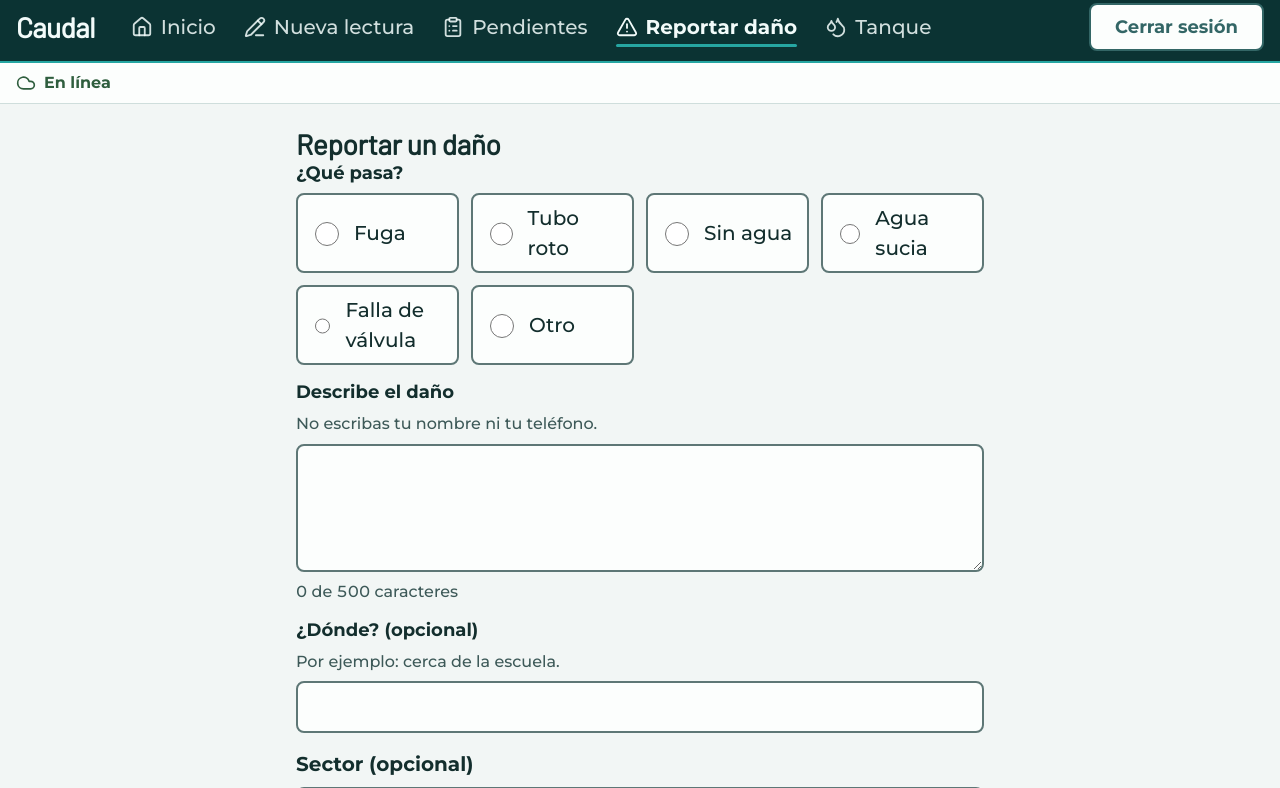
Test: OperatorDamagePage (S11) › keeps the text typed and says there is no connection when the request fails
The image size is (1280, 788).
Click the radio button labelled "Fuga" at (327, 234), box x1=315 y1=222 x2=339 y2=246
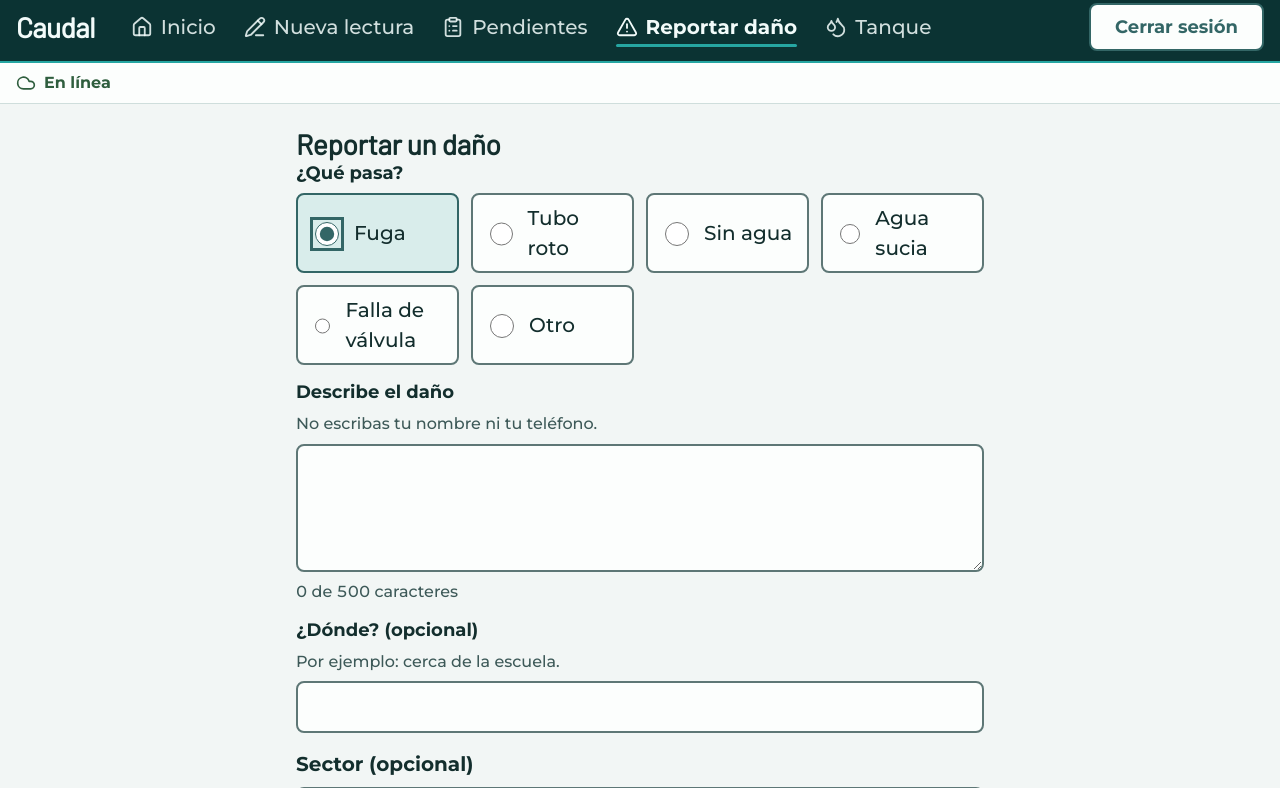
Type "Gotea el tubo junto a la escuela." into the text box labelled "Describe el daño" at (640, 508), box x1=296 y1=444 x2=984 y2=572
(page scrolled)
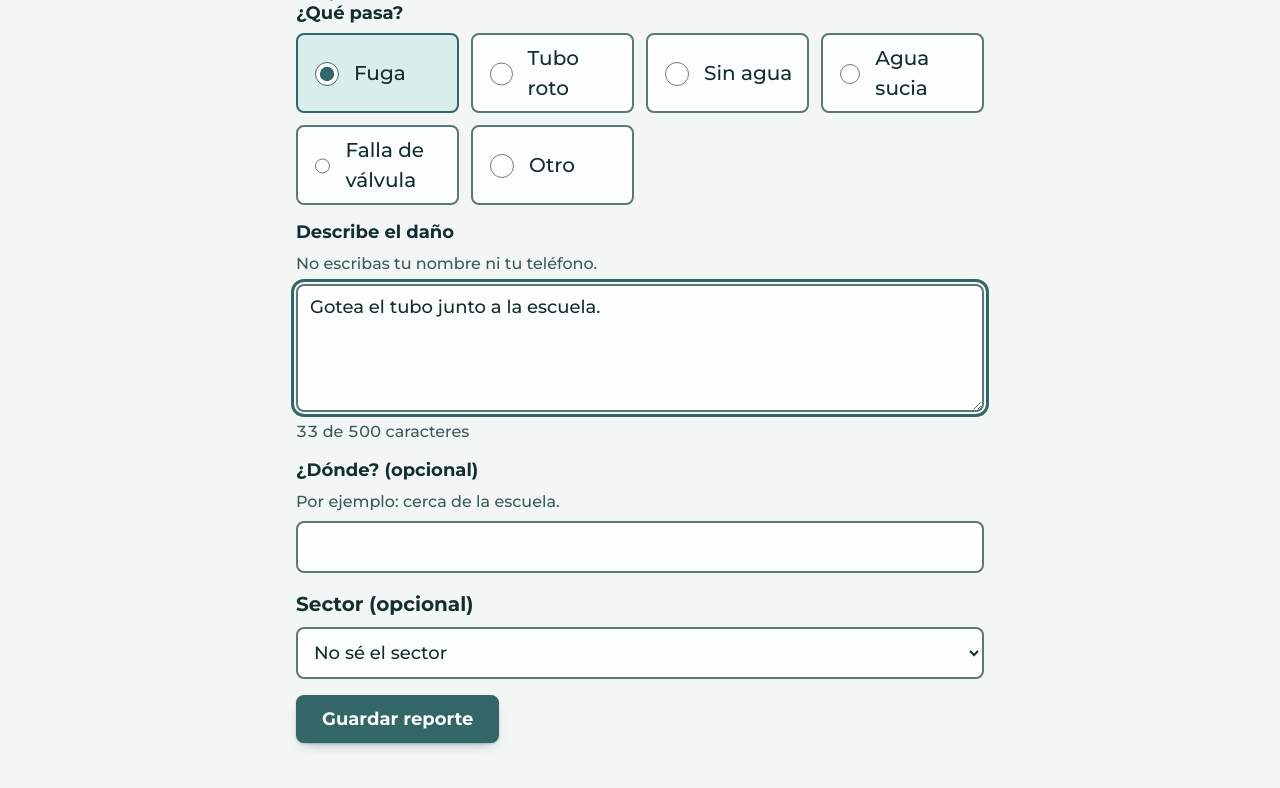
Click the button "Guardar reporte" at (398, 719), box x1=296 y1=695 x2=499 y2=743
(page scrolled)
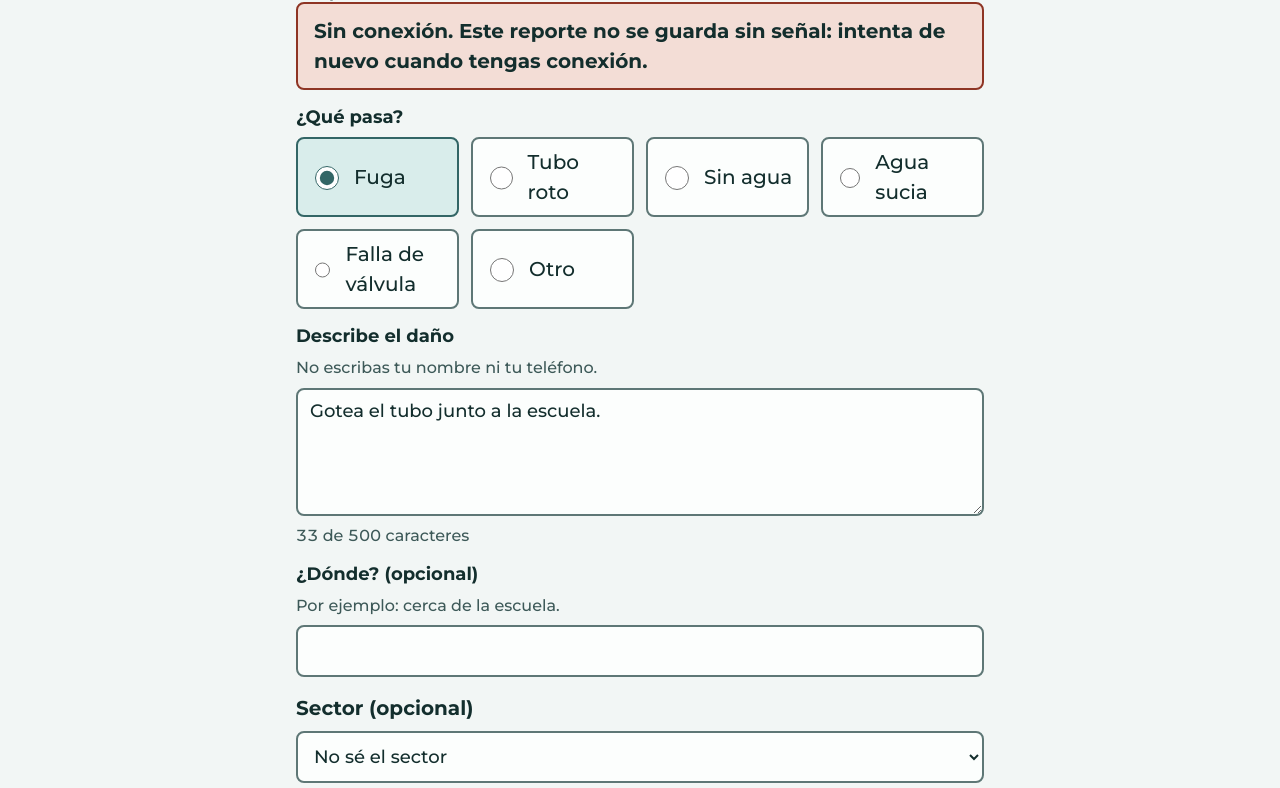
Check: the text "Sin conexión. Este reporte no se guarda sin señal: intenta de nuevo cuando tengas conexión." is shown, box x1=314 y1=19 x2=945 y2=73
